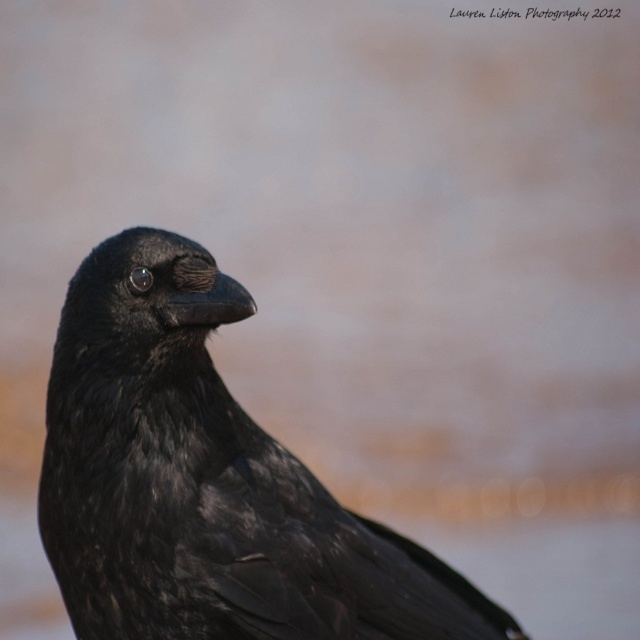Raven: (0, 228, 519, 640)
